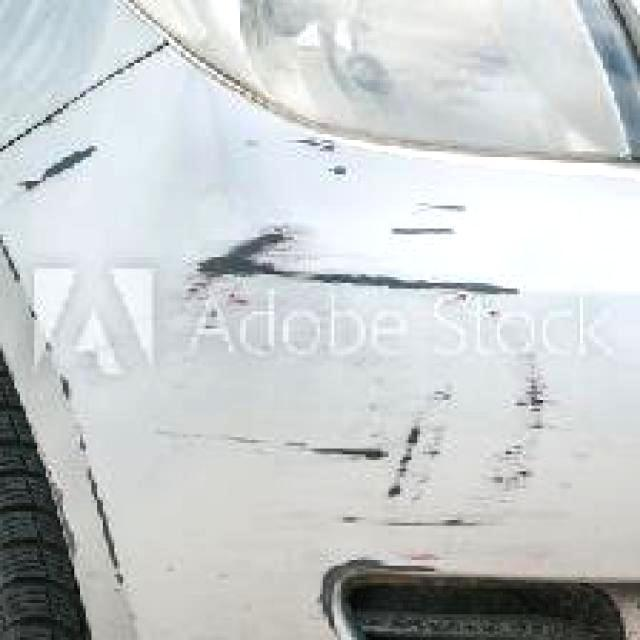minor: (0, 262, 141, 640), (174, 212, 534, 308), (483, 357, 549, 501), (388, 384, 456, 504), (162, 429, 388, 464), (13, 143, 107, 208), (340, 502, 494, 534), (273, 138, 353, 183), (197, 301, 225, 341)
